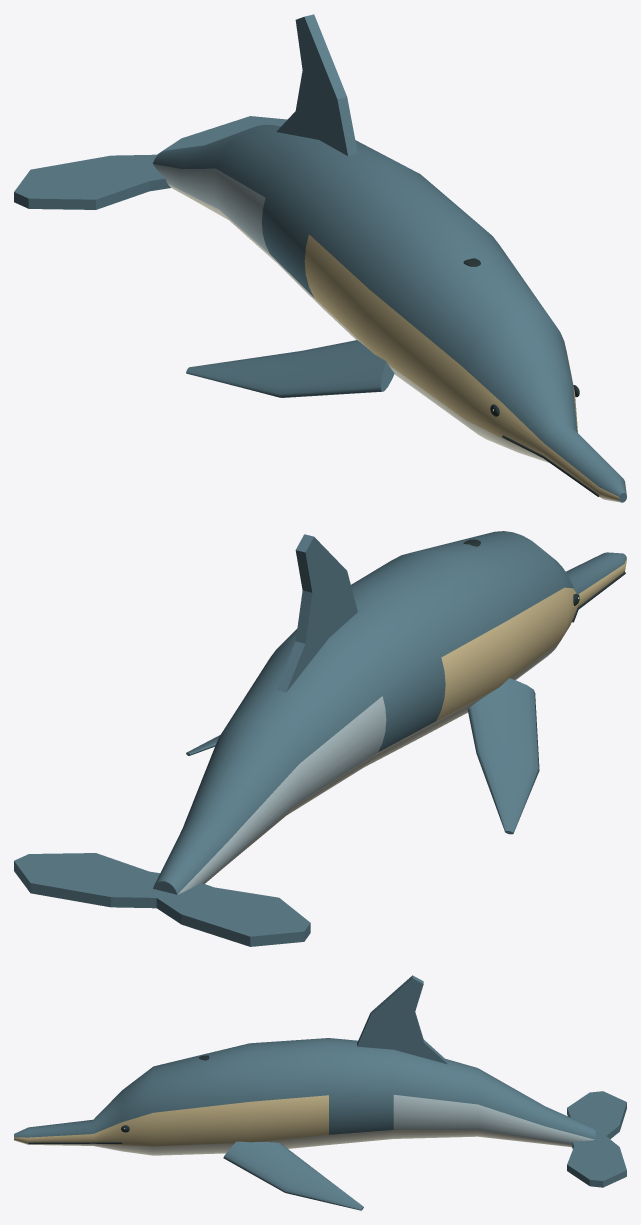
File: dolphin_common.glb
3 views of the same model, one above another, from view 1: azimuth 30°, elevation 25°; view 2: azimuth 150°, elevation 25°; view 3: azimuth 270°, elevation 25° (orthographic). The views are drawn at different scales.
Visible parts, largest first — view 1: Common dolphin arched continuous body, Common dolphin horizontal tail flukes, Common dolphin slender pectoral -1, Common dolphin tall curved dorsal fin; view 2: Common dolphin arched continuous body, Common dolphin horizontal tail flukes, Common dolphin slender pectoral -1, Common dolphin tall curved dorsal fin; view 3: Common dolphin arched continuous body, Common dolphin horizontal tail flukes, Common dolphin slender pectoral 1, Common dolphin tall curved dorsal fin.
Part boxes in pixels (box(x1,y1,x2,y2)): Common dolphin arched continuous body: box(153, 124, 626, 502); Common dolphin horizontal tail flukes: box(14, 116, 287, 209); Common dolphin slender pectoral -1: box(186, 340, 394, 397); Common dolphin tall curved dorsal fin: box(276, 14, 357, 156); Common dolphin arched continuous body: box(153, 531, 626, 894); Common dolphin horizontal tail flukes: box(14, 853, 310, 946); Common dolphin slender pectoral -1: box(467, 678, 539, 834); Common dolphin tall curved dorsal fin: box(276, 534, 357, 692); Common dolphin arched continuous body: box(14, 1038, 595, 1155); Common dolphin horizontal tail flukes: box(567, 1091, 626, 1187); Common dolphin slender pectoral 1: box(223, 1141, 363, 1210); Common dolphin tall curved dorsal fin: box(357, 975, 447, 1064).
Bounding box in the file's own units: 0.999 × 0.8423 × 2.55.
